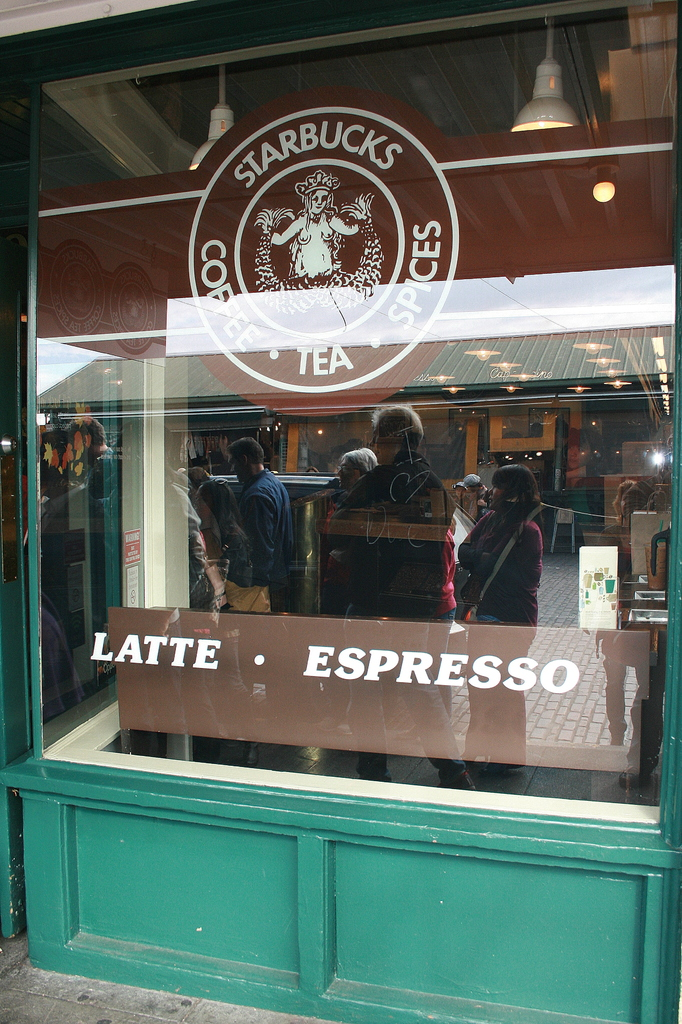person: (307, 446, 372, 570)
